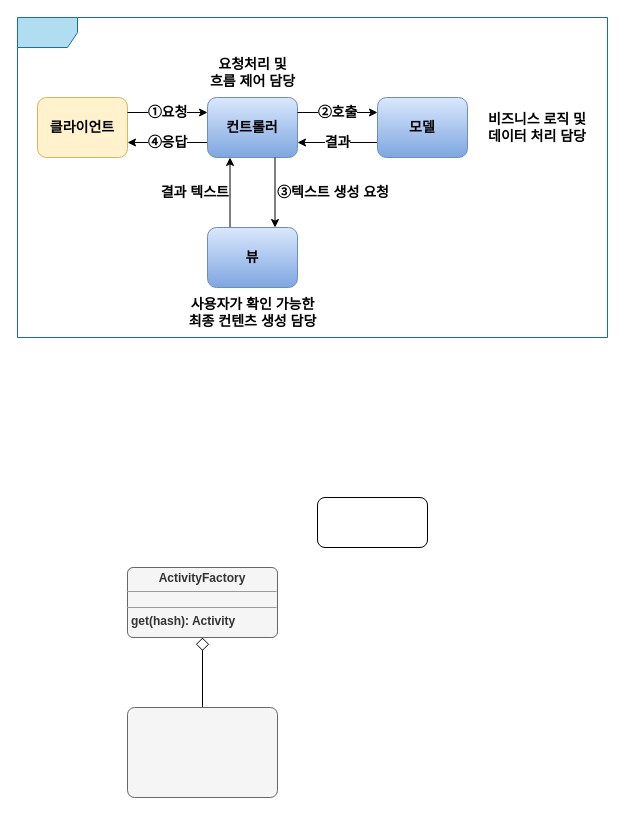
This 625x815 diagram has some shape labels left out. Here are the shapes that lost their labels. From the top down, the centre of each, then its label:
point 312,177: MVC
point 202,752: «interface» Activity get(hash): Activity
